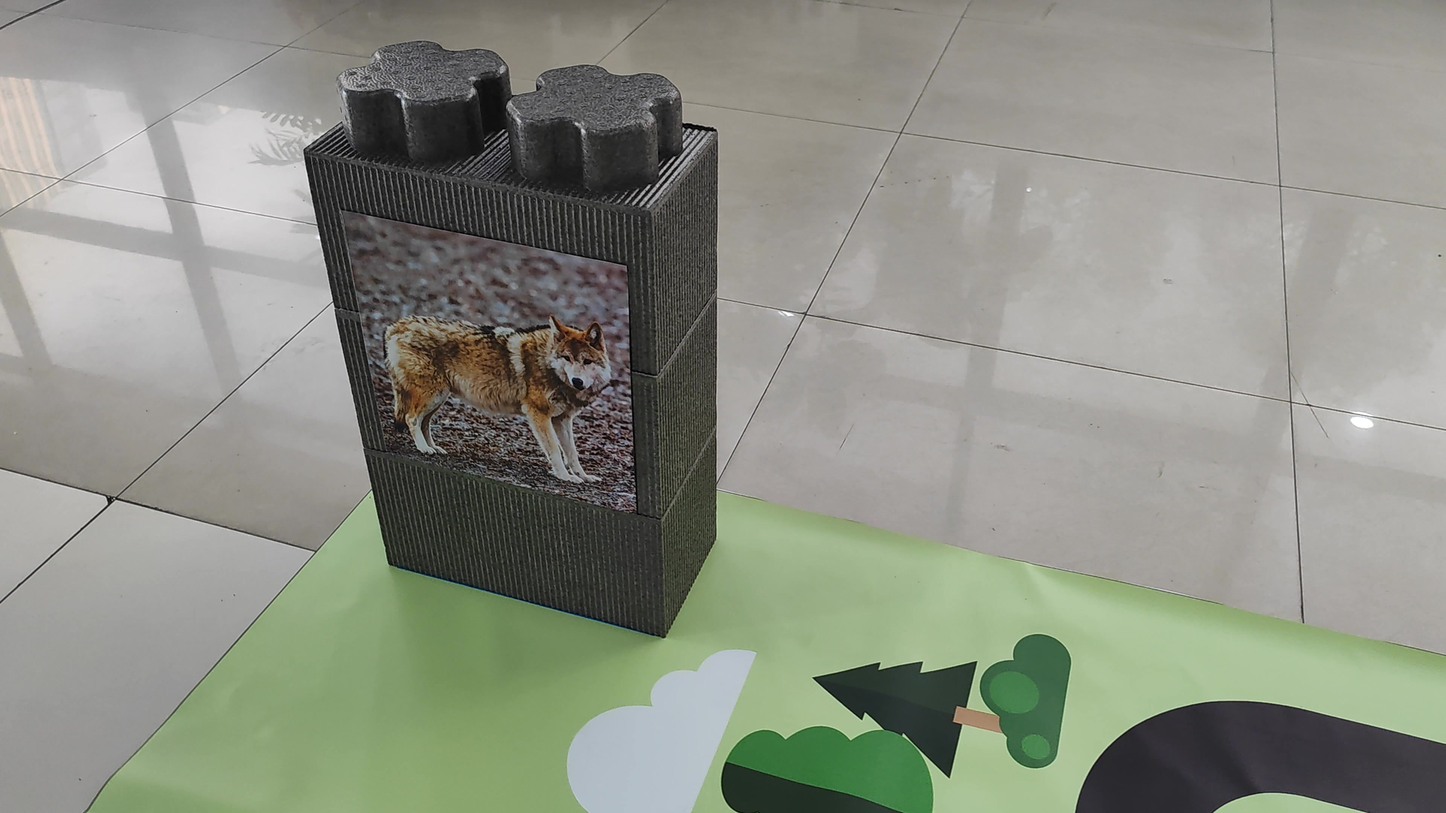wolf: (350, 254, 619, 490)
